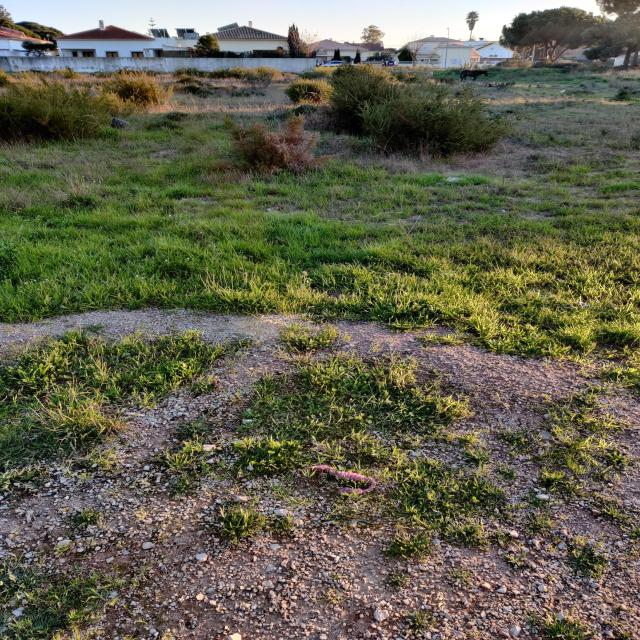litter: (308, 462, 380, 495)
